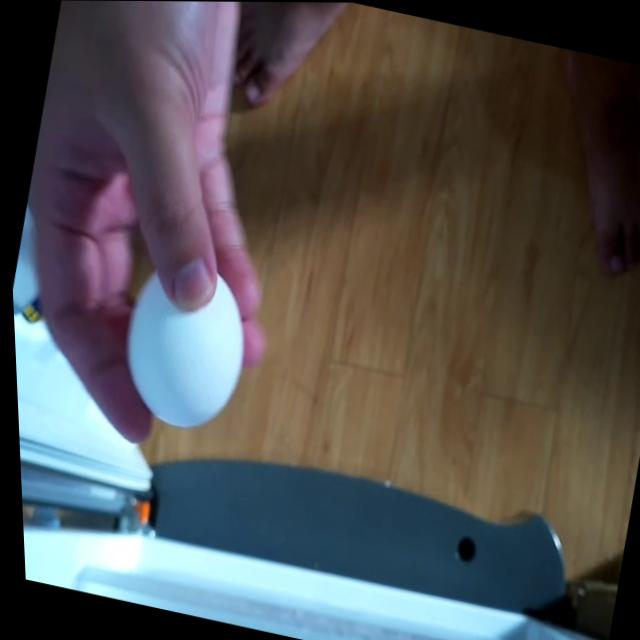egg: (98, 258, 262, 443)
